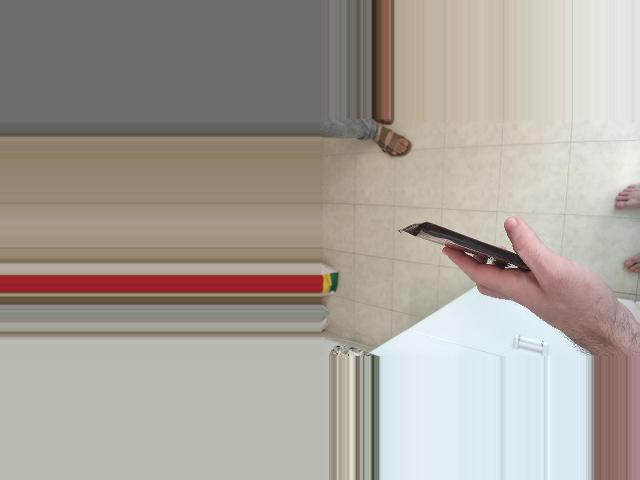chocolate: (396, 207, 551, 296)
